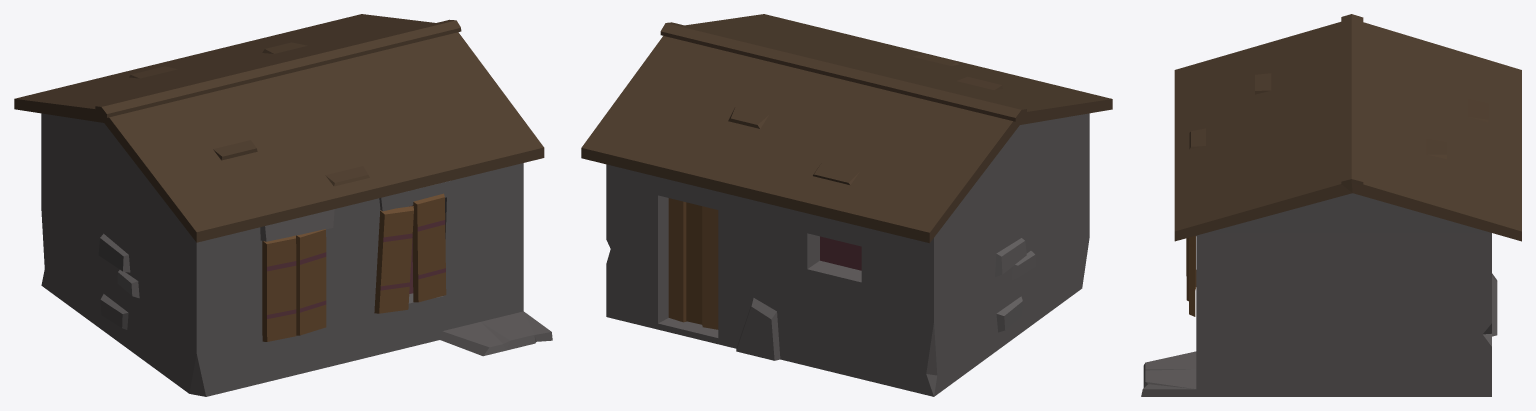
Rendered from house-pirate-new-small.fbx.
The picture shows the model from 3 angles, left to right: view 1: azimuth 30°, elevation 25°; view 2: azimuth 150°, elevation 25°; view 3: azimuth 270°, elevation 25°; orthographic projection. The views are drawn at different scales.
Parts seen in each view (by area): view 1: house-pirate-new-small; view 2: house-pirate-new-small; view 3: house-pirate-new-small.
Part boxes in pixels (x1,y1,x2,y2): house-pirate-new-small: (14,14,552,396); house-pirate-new-small: (581,14,1112,396); house-pirate-new-small: (1141,14,1521,396).
Size of the model in its own units: 6.12 by 3.88 by 5.96.
